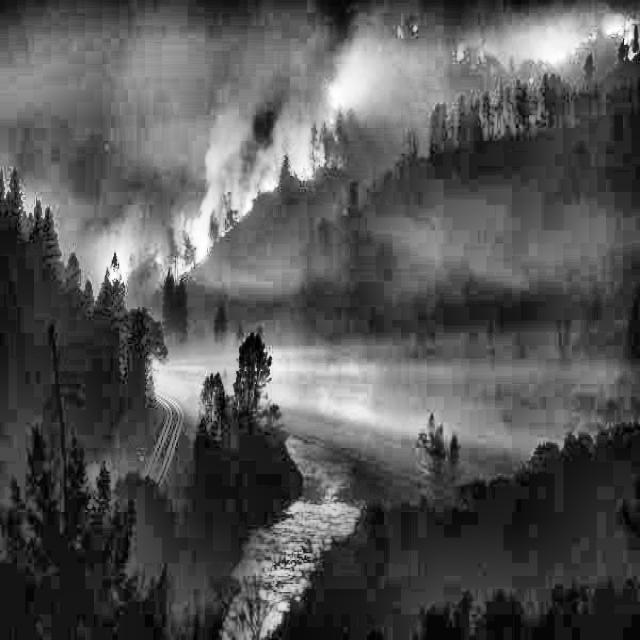fire: (59, 99, 397, 355), (432, 39, 620, 205)
